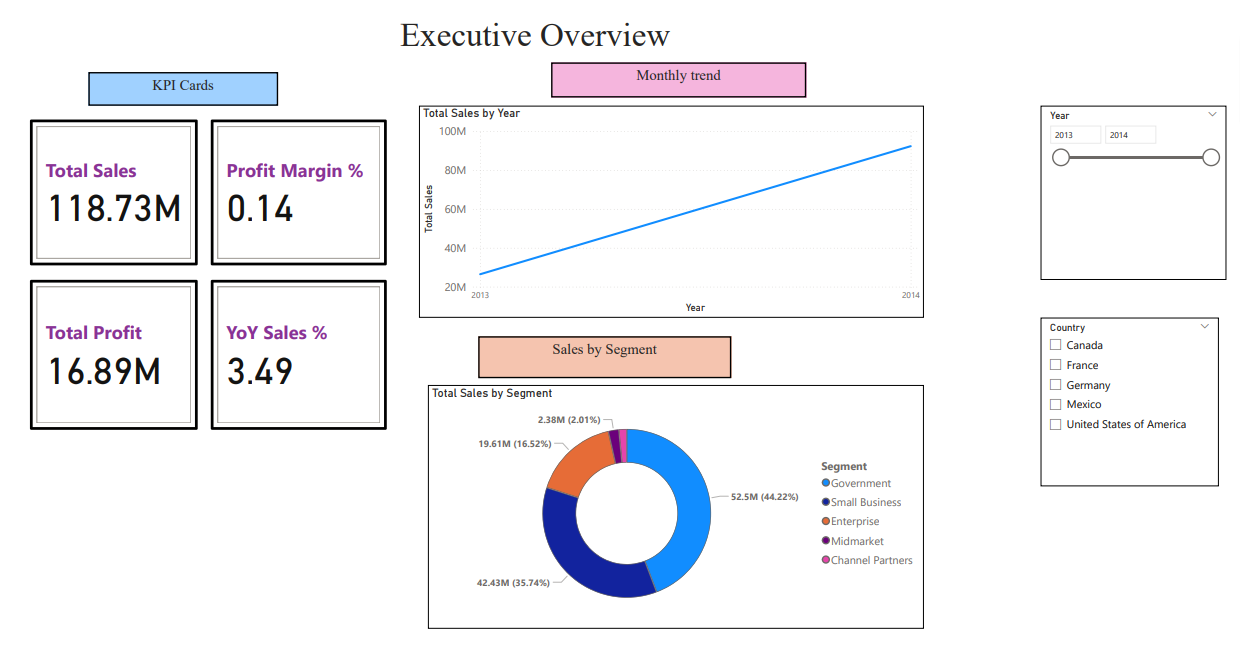

The page's visual inventory and layout, read from the dashboard file:
{"tool":"powerbi","page":{"name":"Executive Overview","canvas":[1780,920],"ordinal":0},"visuals":[{"type":"cardVisual","fields":{"Data":["Dim Date.Total Sales"]},"box":[20.8,156.5,244.6,212.8],"z":0},{"type":"cardVisual","fields":{"Data":["Dim Date.Total Profit"]},"box":[20.8,390.1,244.6,217.7],"z":1000},{"type":"cardVisual","fields":{"Data":["Dim Date.Profit Margin %"]},"box":[283.7,156.5,256.8,212.8],"z":2000},{"type":"cardVisual","fields":{"Data":["Dim Date.YoY Sales %"]},"box":[283.7,390.1,256.8,217.7],"z":3000},{"type":"textbox","box":[344.8,0,821.7,64.8],"z":4000},{"type":"textbox","box":[106.4,88,275.1,48.9],"z":5000},{"type":"lineChart","fields":{"Category":["Dim Date.Date.Variation.Date Hierarchy.Year","Dim Date.Date.Variation.Date Hierarchy.Quarter","Dim Date.Date.Variation.Date Hierarchy.Month","Dim Date.Date.Variation.Date Hierarchy.Day"],"Y":["Dim Date.Total Sales"]},"box":[587,137.4,734.1,307.2],"z":6000},{"type":"textbox","box":[779.4,74.4,370.3,50.1],"z":7000},{"type":"donutChart","fields":{"Category":["financials.Segment"],"Y":["Dim Date.Total Sales"]},"box":[599.9,543.3,721.2,354.1],"z":8000},{"type":"textbox","box":[673.2,472.2,367.4,60.3],"z":9000},{"type":"slicer","fields":{"Values":["Dim Date.Date.Variation.Date Hierarchy.Year"]},"box":[1490.9,137.4,270,252.3],"z":10000},{"type":"slicer","fields":{"Values":["financials.Country"]},"box":[1490.9,444.7,258.7,245.8],"z":11000}]}

Visuals, with their boxes in screenshot pixels (x1, y1, x2, y2), scaled from the page's 1780x920 canvas onto the 1252x660 screenshot:
cardVisual - Dim Date.Total Sales: x1=15, y1=112, x2=187, y2=265
cardVisual - Dim Date.Total Profit: x1=15, y1=280, x2=187, y2=436
cardVisual - Dim Date.Profit Margin %: x1=200, y1=112, x2=380, y2=265
cardVisual - Dim Date.YoY Sales %: x1=200, y1=280, x2=380, y2=436
textbox: x1=243, y1=0, x2=820, y2=46
textbox: x1=75, y1=63, x2=268, y2=98
lineChart - Dim Date.Date.Variation.Date Hierarchy.Year x Dim Date.Date.Variation.Date Hierarchy.Quarter: x1=413, y1=99, x2=929, y2=319
textbox: x1=548, y1=53, x2=809, y2=89
donutChart - financials.Segment x Dim Date.Total Sales: x1=422, y1=390, x2=929, y2=644
textbox: x1=474, y1=339, x2=732, y2=382
slicer - Dim Date.Date.Variation.Date Hierarchy.Year: x1=1049, y1=99, x2=1239, y2=280
slicer - financials.Country: x1=1049, y1=319, x2=1231, y2=495
